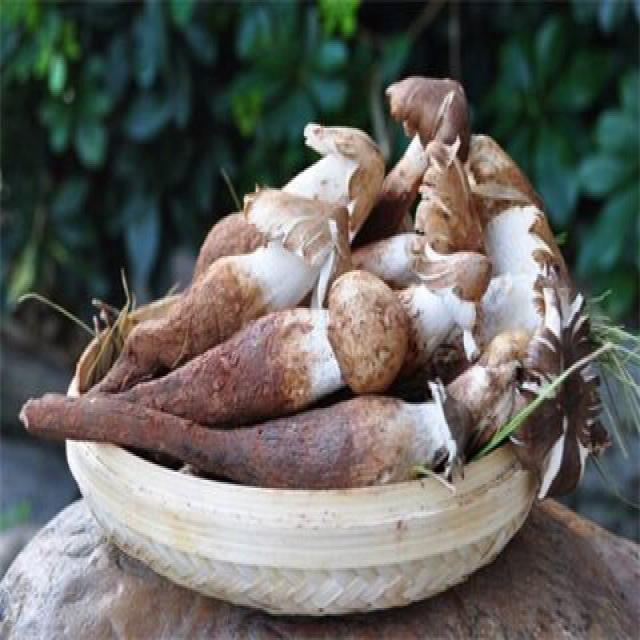Collybia albuminosa: (21, 382, 469, 479), (96, 277, 407, 416), (98, 187, 346, 332), (522, 297, 608, 491), (383, 245, 491, 363), (276, 124, 389, 222), (386, 68, 479, 185)
